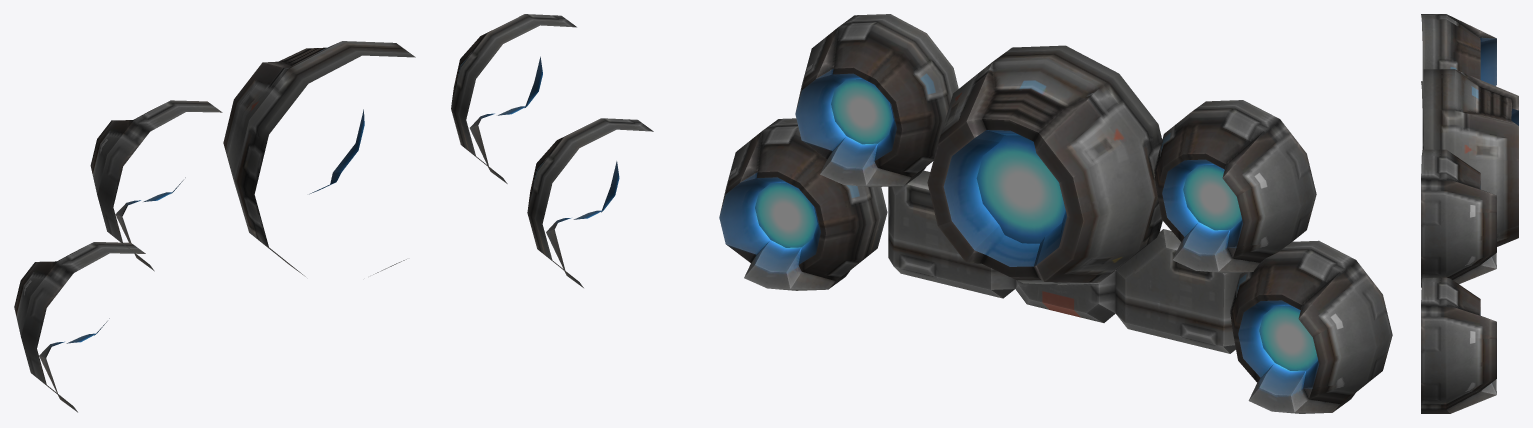
Rendered from engine_hgn_battlecruiser_01_ion_02_t1.glb.
3 views of the same model, side by side, from view 1: azimuth 30°, elevation 25°; view 2: azimuth 150°, elevation 25°; view 3: azimuth 270°, elevation 25° (orthographic). The views are drawn at different scales.
Parts seen in each view (by area): view 1: ion_engine_t1_m_01_LOD0; view 2: ion_engine_t1_m_01_LOD0; view 3: ion_engine_t1_m_01_LOD0.
Boxes of the visible parts, x1=… form: ion_engine_t1_m_01_LOD0: x1=14, y1=14, x2=653, y2=412; ion_engine_t1_m_01_LOD0: x1=719, y1=14, x2=1392, y2=413; ion_engine_t1_m_01_LOD0: x1=1421, y1=14, x2=1518, y2=413.
Size of the model in its own units: 1.9 by 0.8202 by 0.3124.
Materials: 1 (1 with a texture image).
